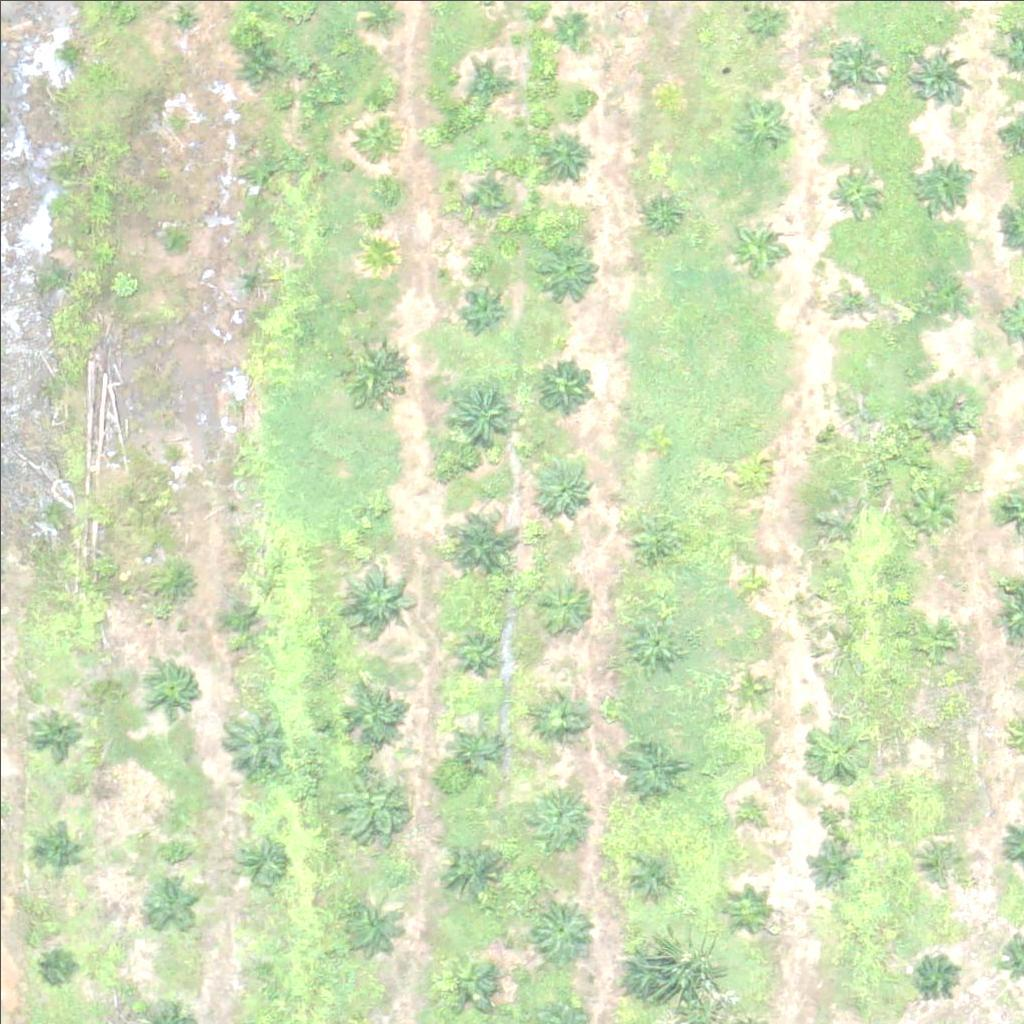Kelapa_Sawit: (437, 498, 524, 586), (341, 559, 416, 635), (446, 380, 521, 455), (733, 92, 796, 155), (535, 574, 598, 637), (530, 781, 593, 844), (532, 457, 595, 520), (224, 708, 287, 771), (341, 340, 404, 403), (916, 383, 979, 446), (617, 738, 680, 801), (726, 215, 789, 278), (621, 608, 684, 671), (616, 938, 679, 1001), (912, 147, 974, 210), (824, 33, 886, 96), (908, 50, 970, 113), (532, 897, 594, 960), (539, 237, 601, 300), (535, 354, 597, 417), (442, 837, 504, 900), (342, 680, 404, 743), (339, 771, 402, 833), (334, 892, 396, 955), (899, 480, 961, 543), (803, 720, 865, 783), (830, 166, 880, 217), (545, 128, 595, 179), (34, 707, 84, 758), (468, 58, 518, 109), (625, 846, 675, 897), (216, 594, 266, 645), (154, 559, 204, 610), (826, 272, 876, 323), (914, 274, 964, 325), (536, 688, 586, 738), (464, 279, 514, 329), (32, 825, 82, 875), (144, 880, 194, 930), (444, 958, 494, 1008), (237, 837, 287, 887), (149, 662, 199, 712), (631, 520, 681, 570), (463, 165, 513, 215), (805, 842, 855, 892), (905, 617, 955, 667), (456, 626, 505, 677), (723, 889, 761, 927), (916, 961, 954, 999), (360, 234, 398, 272), (238, 45, 276, 83), (358, 112, 396, 150), (242, 154, 280, 192), (730, 788, 768, 826), (732, 669, 770, 707), (730, 562, 768, 600), (734, 462, 772, 500), (643, 191, 681, 229), (458, 730, 495, 768), (234, 260, 271, 298), (553, 8, 590, 46), (923, 837, 960, 875), (911, 708, 948, 746), (828, 410, 865, 448), (745, 3, 782, 40), (47, 953, 72, 978), (248, 960, 273, 985), (161, 233, 186, 258), (164, 442, 189, 467), (363, 495, 388, 520)
